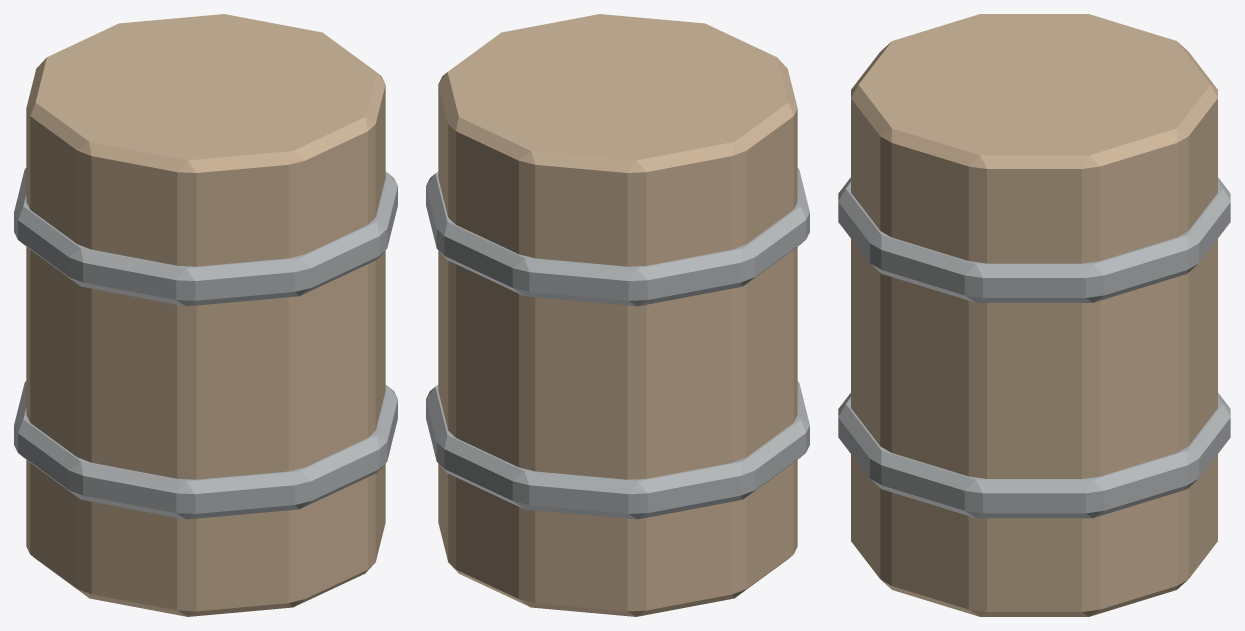
File: barrel.glb
3 views of the same model, side by side, from view 1: azimuth 30°, elevation 25°; view 2: azimuth 150°, elevation 25°; view 3: azimuth 270°, elevation 25° (orthographic).
Parts seen in each view (by area): view 1: body, ring1, ring2; view 2: body, ring1, ring2; view 3: body, ring1, ring2.
Part boxes in pixels (bbox=[...]): body: bbox=[26, 14, 385, 616]; ring1: bbox=[14, 381, 397, 519]; ring2: bbox=[14, 168, 397, 306]; body: bbox=[438, 14, 797, 616]; ring1: bbox=[426, 381, 809, 519]; ring2: bbox=[426, 168, 809, 306]; body: bbox=[851, 14, 1217, 616]; ring1: bbox=[838, 393, 1230, 518]; ring2: bbox=[838, 177, 1230, 302].
Size of the model in its own units: 0.447 by 0.6 by 0.4626.
